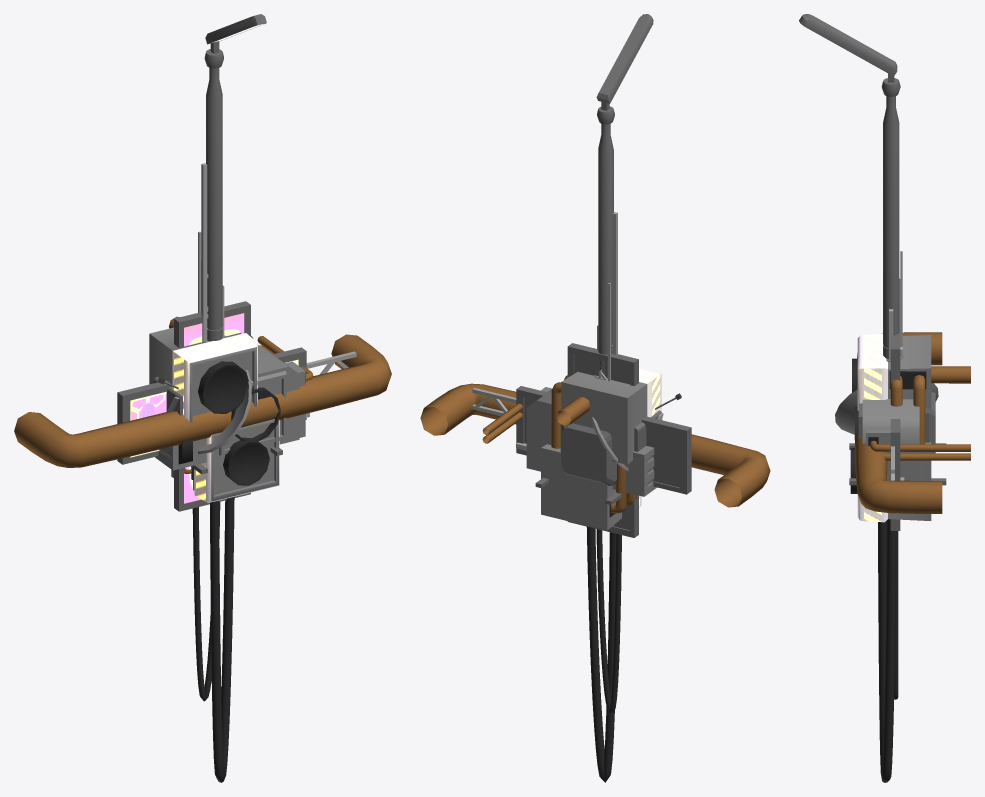
Rendered from city-props.glb.
3 renders of one model, left to right at view 1: azimuth 30°, elevation 25°; view 2: azimuth 150°, elevation 25°; view 3: azimuth 270°, elevation 25°, orthographic. The views are drawn at different scales.
Visible parts, largest first — view 1: Pipe_1, AC_Stacked, Cable_Long, Light_Street_1, AC, Sign_4, Sign_3, Antenna_1, Antenna_2, Sign_1, TV_1; view 2: AC_Stacked, Pipe_1, Cable_Long, Light_Street_1, AC, TV_1, Sign_3, Sign_4, Sign_1, Antenna_1; view 3: AC_Stacked, Light_Street_1, AC, Cable_Long, Pipe_1, TV_1, Antenna_2, Sign_4, Sign_1.
Part boxes in pixels (x1,y1,x2,y2): Pipe_1: [14, 334, 391, 467]; AC_Stacked: [149, 327, 279, 502]; Cable_Long: [192, 496, 234, 782]; Light_Street_1: [204, 14, 266, 342]; AC: [153, 316, 313, 474]; Sign_4: [174, 301, 250, 511]; Sign_3: [124, 352, 304, 463]; Antenna_1: [201, 163, 224, 342]; Antenna_2: [157, 370, 251, 454]; Sign_1: [117, 347, 306, 464]; TV_1: [198, 231, 356, 374]; AC_Stacked: [541, 368, 661, 530]; Pipe_1: [420, 383, 770, 507]; Cable_Long: [586, 526, 621, 782]; Light_Street_1: [594, 14, 653, 379]; AC: [482, 387, 662, 504]; TV_1: [472, 283, 616, 485]; Sign_3: [517, 390, 685, 493]; Sign_4: [567, 343, 638, 537]; Sign_1: [516, 386, 691, 494]; Antenna_1: [597, 212, 617, 354]; AC_Stacked: [850, 334, 931, 522]; Light_Street_1: [799, 14, 903, 361]; AC: [849, 366, 970, 485]; Cable_Long: [878, 519, 898, 782]; Pipe_1: [854, 332, 942, 513]; TV_1: [891, 251, 935, 480]; Antenna_2: [835, 383, 938, 434]; Sign_4: [890, 329, 900, 530]; Sign_1: [890, 419, 900, 480].
Size of the model in its own units: 2.44 by 5.36 by 1.09.
